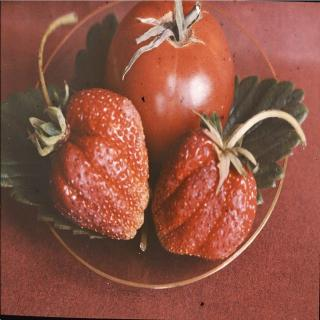tomato: (104, 0, 236, 167)
